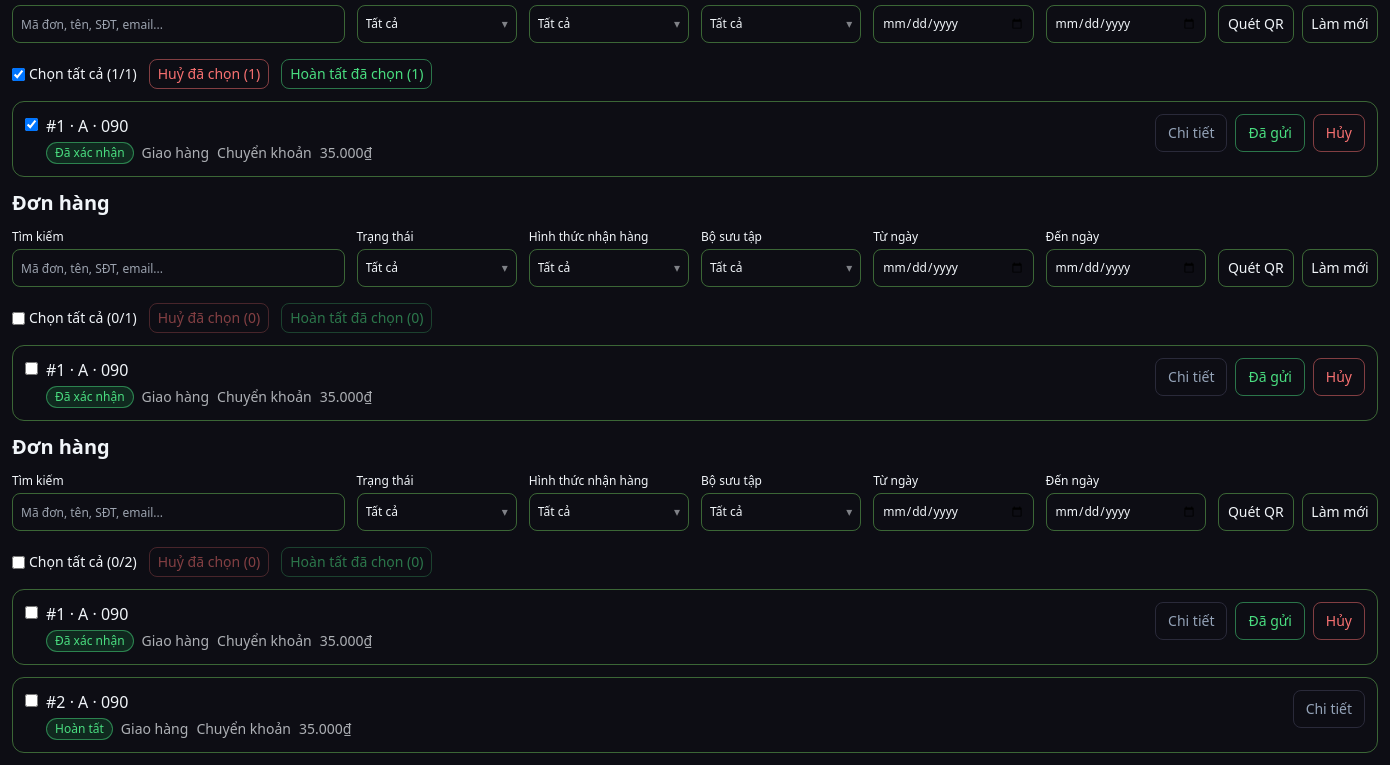
Test: AdminOrders bulk cancel › surfaces per-order failures instead of a blanket success message
The width and height of the screenshot is (1390, 765).
(page scrolled)
Click the checkbox labelled "Chọn tất cả (0/2)" at (18, 562), box [12,556,25,568]
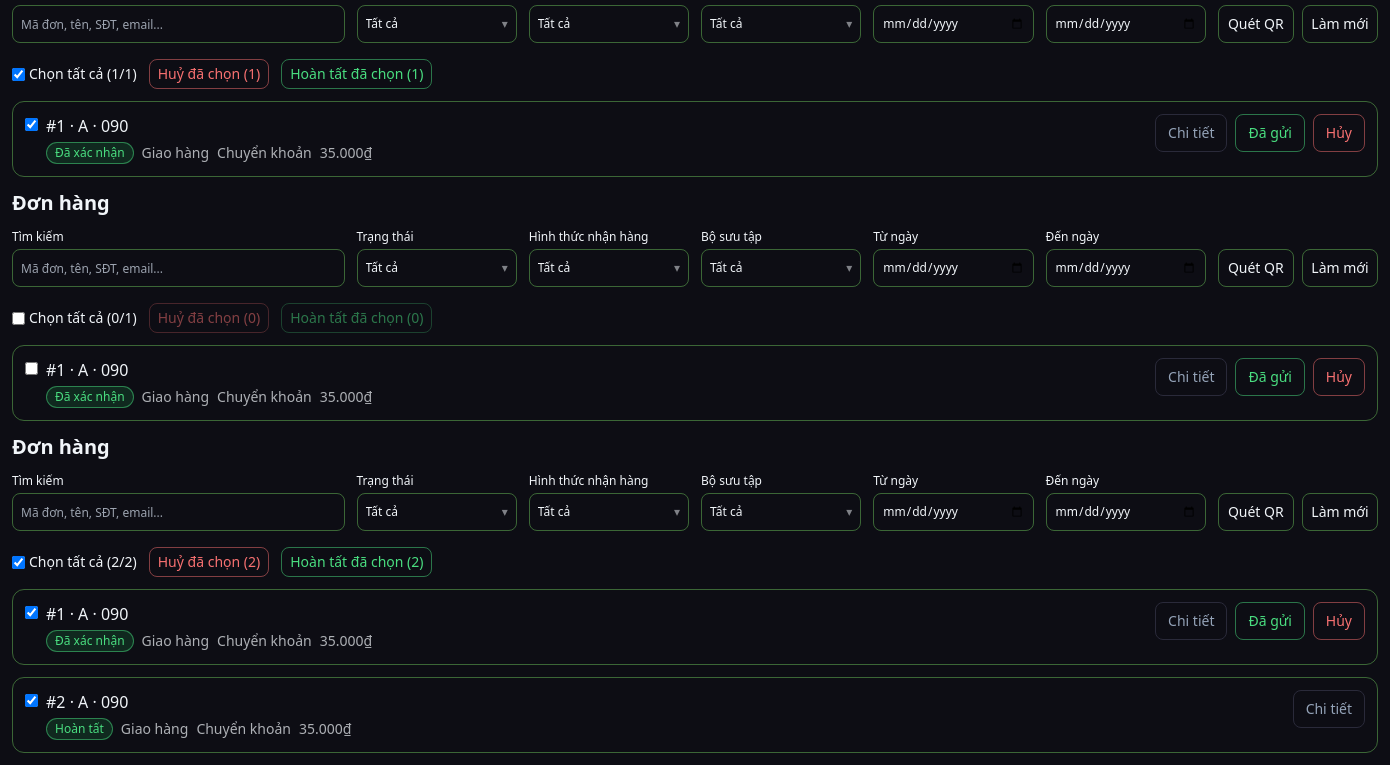
Click the button "Huỷ đã chọn (2)" at (209, 562), box [149,547,269,577]
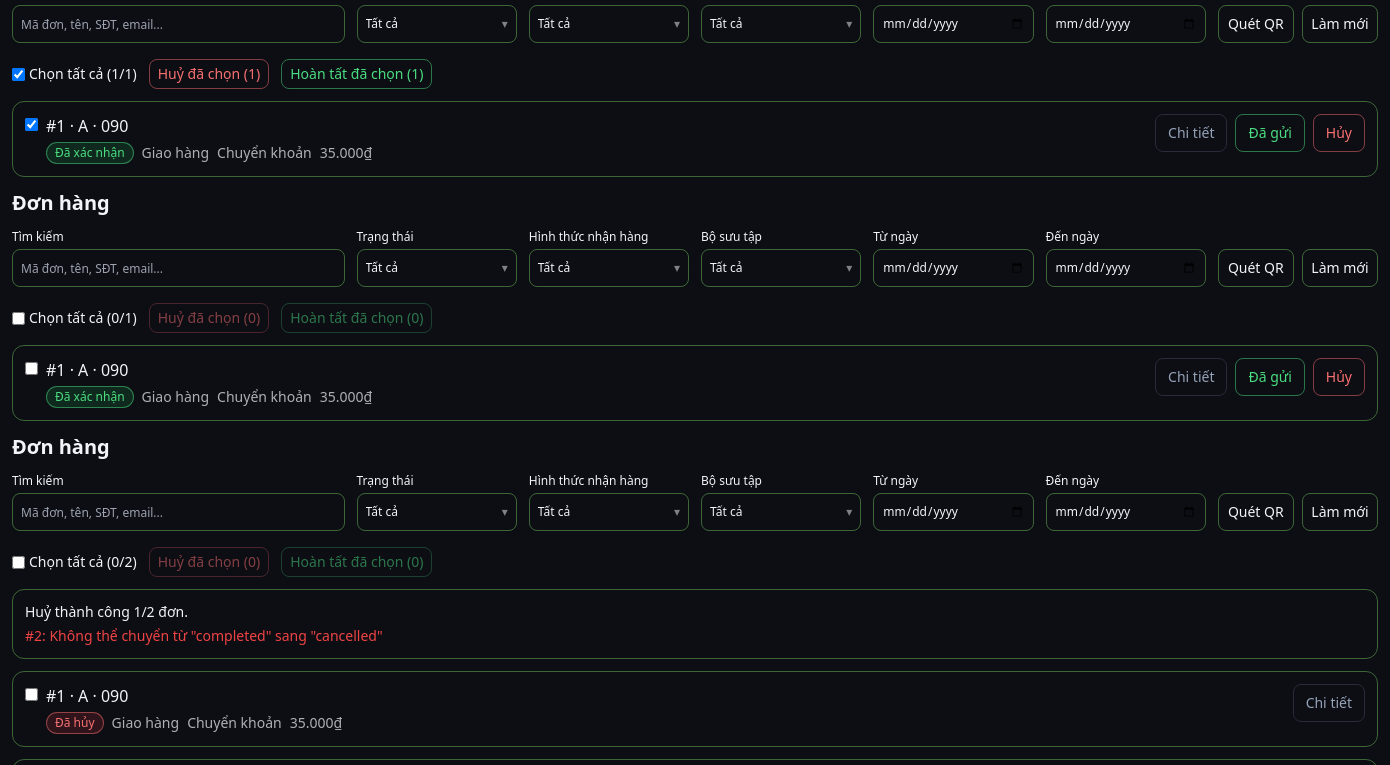
Expected: the text "#2" is shown, [25,626,50,645]
Expected: the text "Huỷ thành công 1/2 đơn" is shown, [25,602,188,621]
Expected: the text "completed" is shown, [50,626,383,645]
